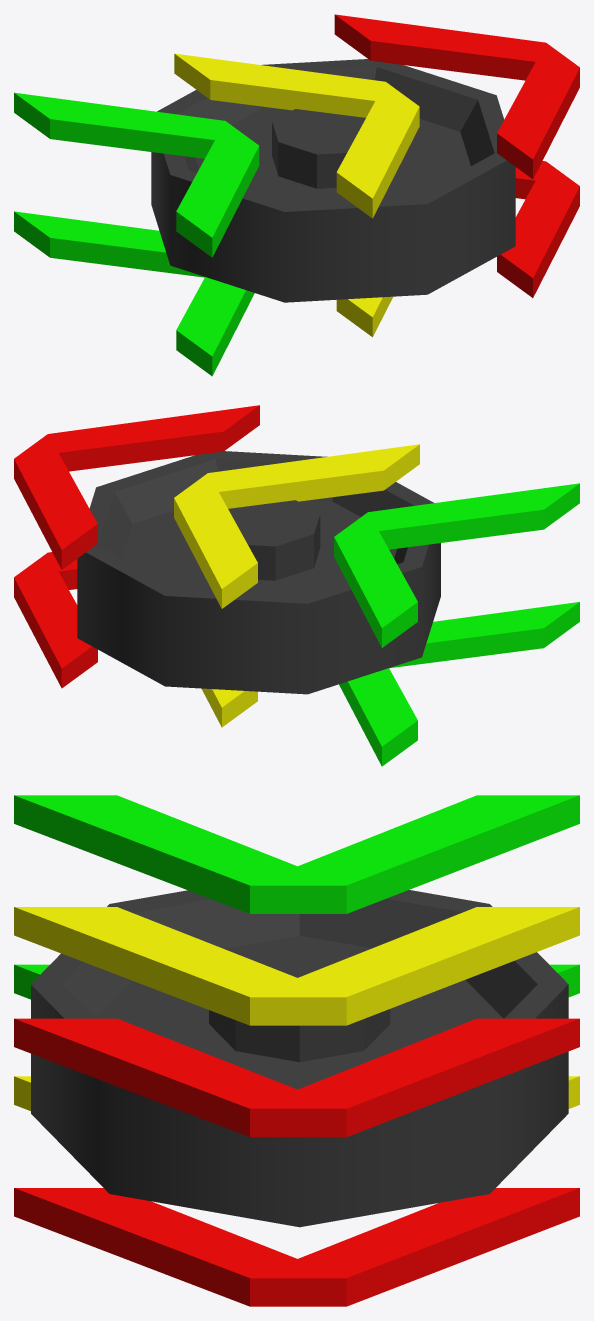
File: SpeedBonus.FBX
The picture shows the model from 3 angles, top to bottom: view 1: azimuth 30°, elevation 25°; view 2: azimuth 150°, elevation 25°; view 3: azimuth 270°, elevation 25°; orthographic projection. The views are drawn at different scales.
Parts seen in each view (by area): view 1: Cylinder001; view 2: Cylinder001; view 3: Cylinder001.
Part boxes in pixels (left/top/right/bottom): Cylinder001: left=14, top=14, right=579, bottom=376; Cylinder001: left=14, top=405, right=579, bottom=766; Cylinder001: left=14, top=795, right=579, bottom=1306.
Bounding box in the file's own units: 82.49 × 24.28 × 62.93.
